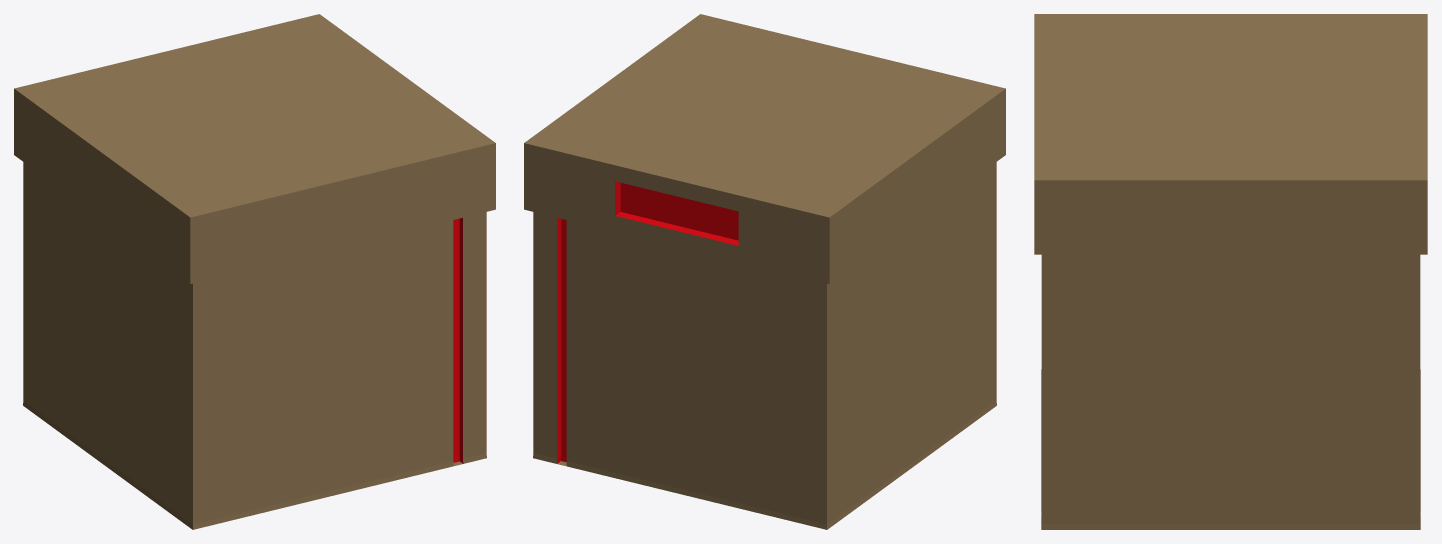
Rendered from Deco_Caixas_Red.fbx.
3 renders of one model, left to right at view 1: azimuth 30°, elevation 25°; view 2: azimuth 150°, elevation 25°; view 3: azimuth 270°, elevation 25°, orthographic. The views are drawn at different scales.
Visible parts, largest first — view 1: Cube; view 2: Cube; view 3: Cube.
Boxes of the visible parts, <box> form: Cube: <box>14,14,495,529</box>; Cube: <box>524,14,1005,529</box>; Cube: <box>1034,14,1427,529</box>.
Bounding box in the file's own units: 100 × 100 × 98.95.
